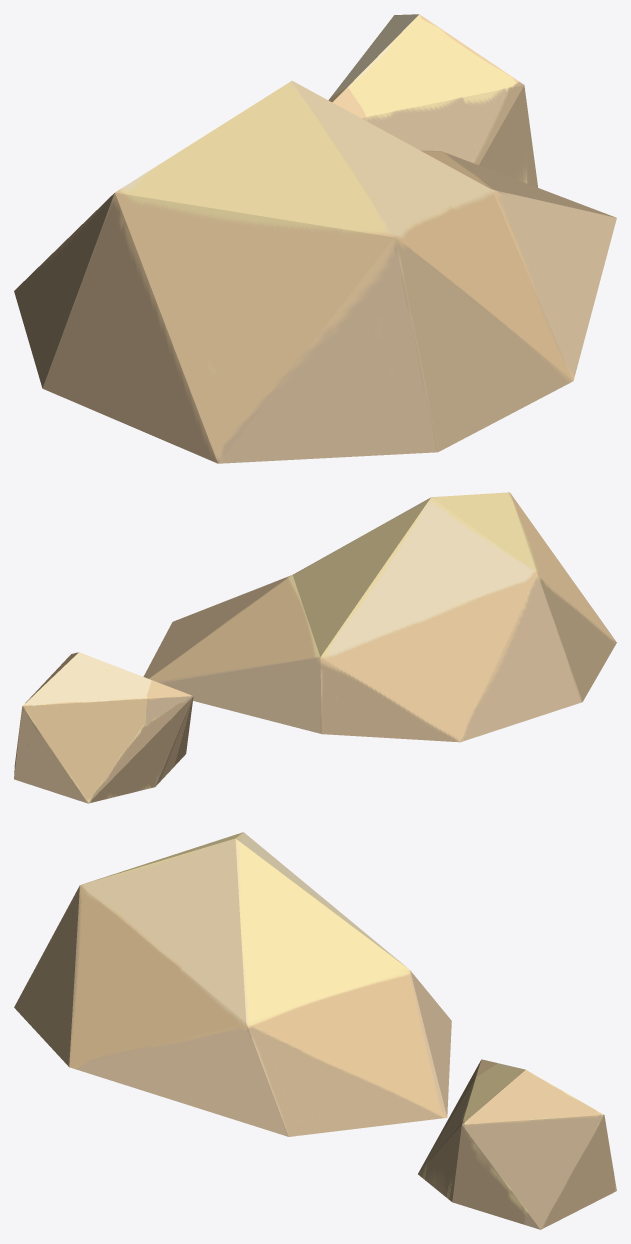
The model's file is Stone3@Model.fbx.
3 views of the same model, one above another, from view 1: azimuth 30°, elevation 25°; view 2: azimuth 150°, elevation 25°; view 3: azimuth 270°, elevation 25° (orthographic). The views are drawn at different scales.
Parts seen in each view (by area): view 1: Stone3 (×2); view 2: Stone3 (×2); view 3: Stone3 (×2).
Part boxes in pixels (x1,y1,x2,y2): Stone3 (×2): [14, 14, 616, 463]; Stone3 (×2): [14, 492, 616, 803]; Stone3 (×2): [14, 832, 616, 1229].
Bounding box in the file's own units: 119 × 62 × 135.
